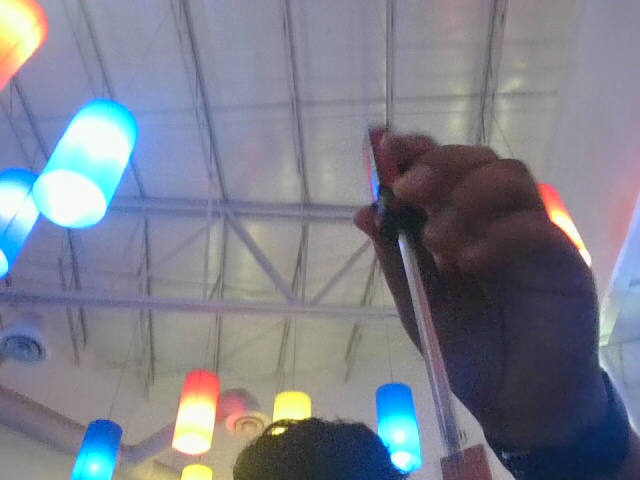destornillador: (346, 123, 491, 479)
